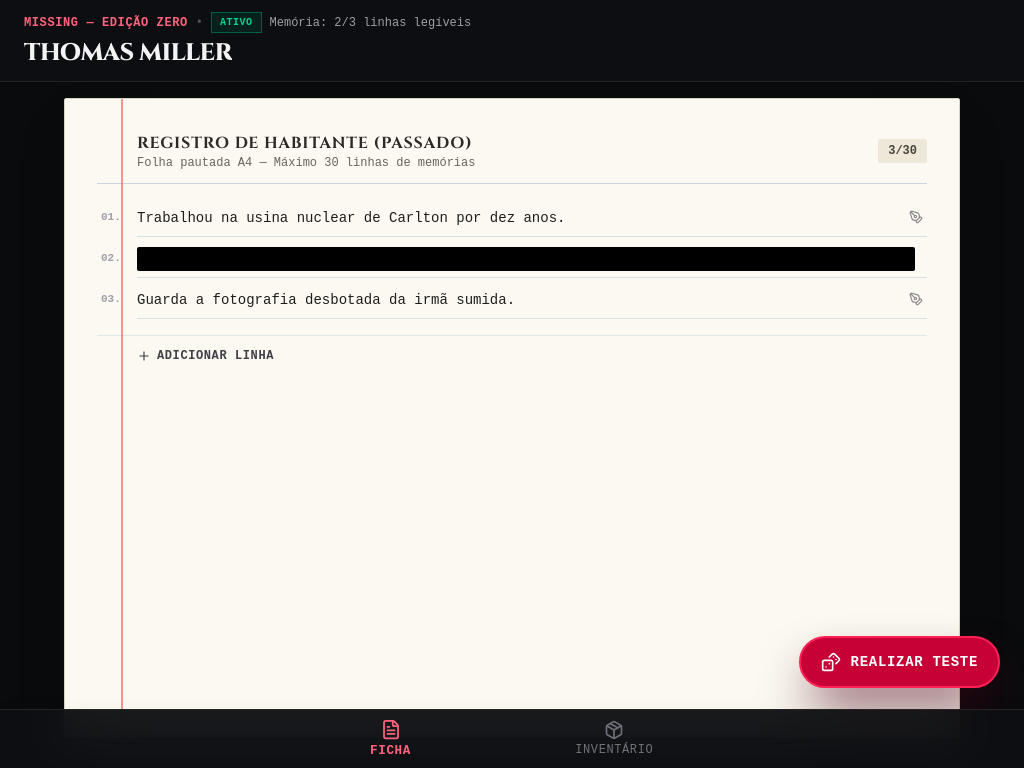
Test: MissingHabitantSheet Component (Analog Horror UI) › abre o modal de rolagem ao clicar em 'Realizar Teste'
Step 1. Click the button with test id "btn-realizar-teste" → x=899, y=662, box [799,636,1000,688]
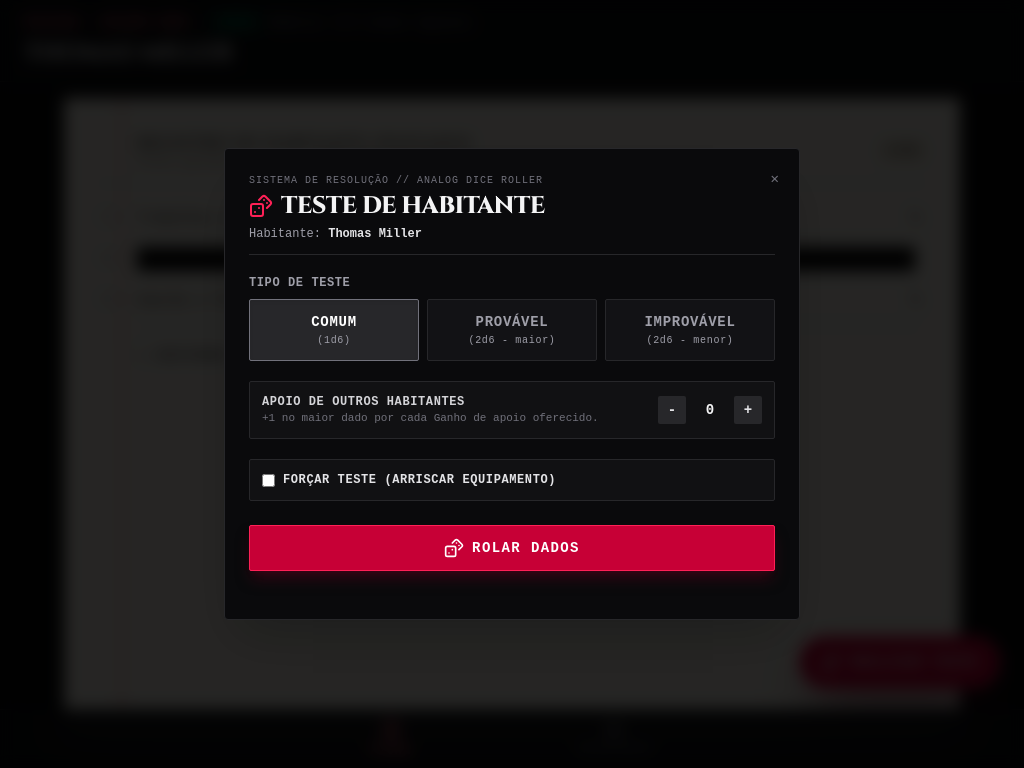
Result: the dialog with test id "missing-dice-roller-modal" is shown
